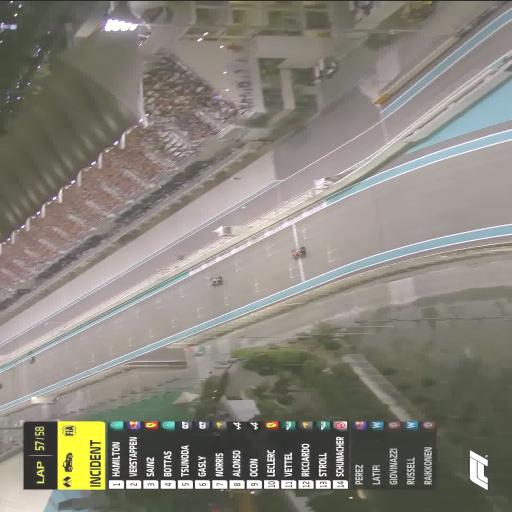f1_car: (291, 246, 305, 259), (208, 276, 221, 286)
